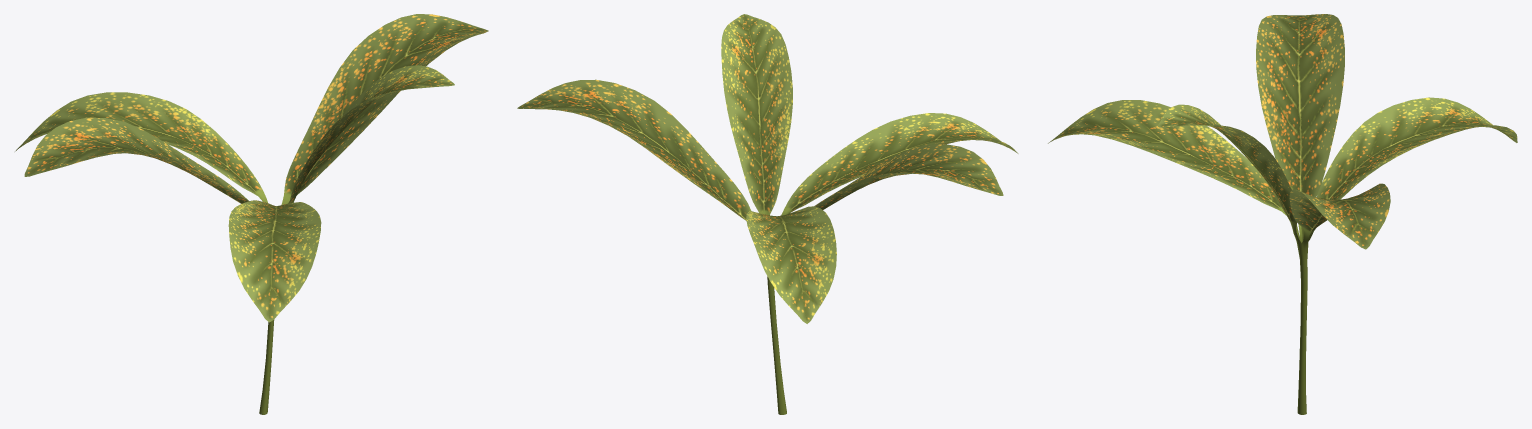
The model's file is mato1.fbx.
3 views of the same model, side by side, from view 1: azimuth 30°, elevation 25°; view 2: azimuth 150°, elevation 25°; view 3: azimuth 270°, elevation 25° (orthographic). The views are drawn at different scales.
Parts seen in each view (by area): view 1: MH_Weed01_04_Shape; view 2: MH_Weed01_04_Shape; view 3: MH_Weed01_04_Shape.
Part boxes in pixels (x1,y1,x2,y2): MH_Weed01_04_Shape: (15, 14, 488, 414); MH_Weed01_04_Shape: (517, 14, 1018, 414); MH_Weed01_04_Shape: (1048, 14, 1517, 414).
Size of the model in its own units: 22.61 by 15.41 by 19.19.
1 material, 1 textured.
